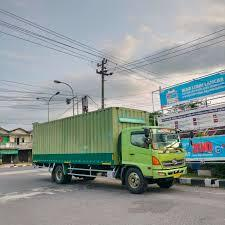truck: (114, 122, 192, 197)
